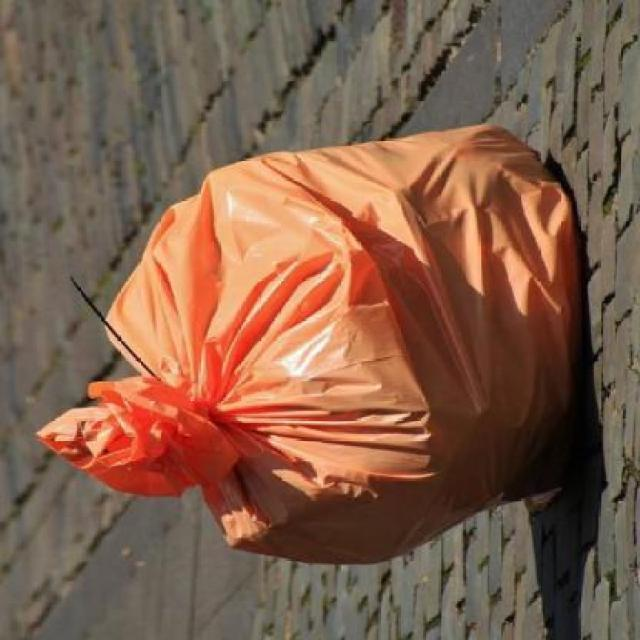Garbage_Bag: (37, 117, 597, 564)
